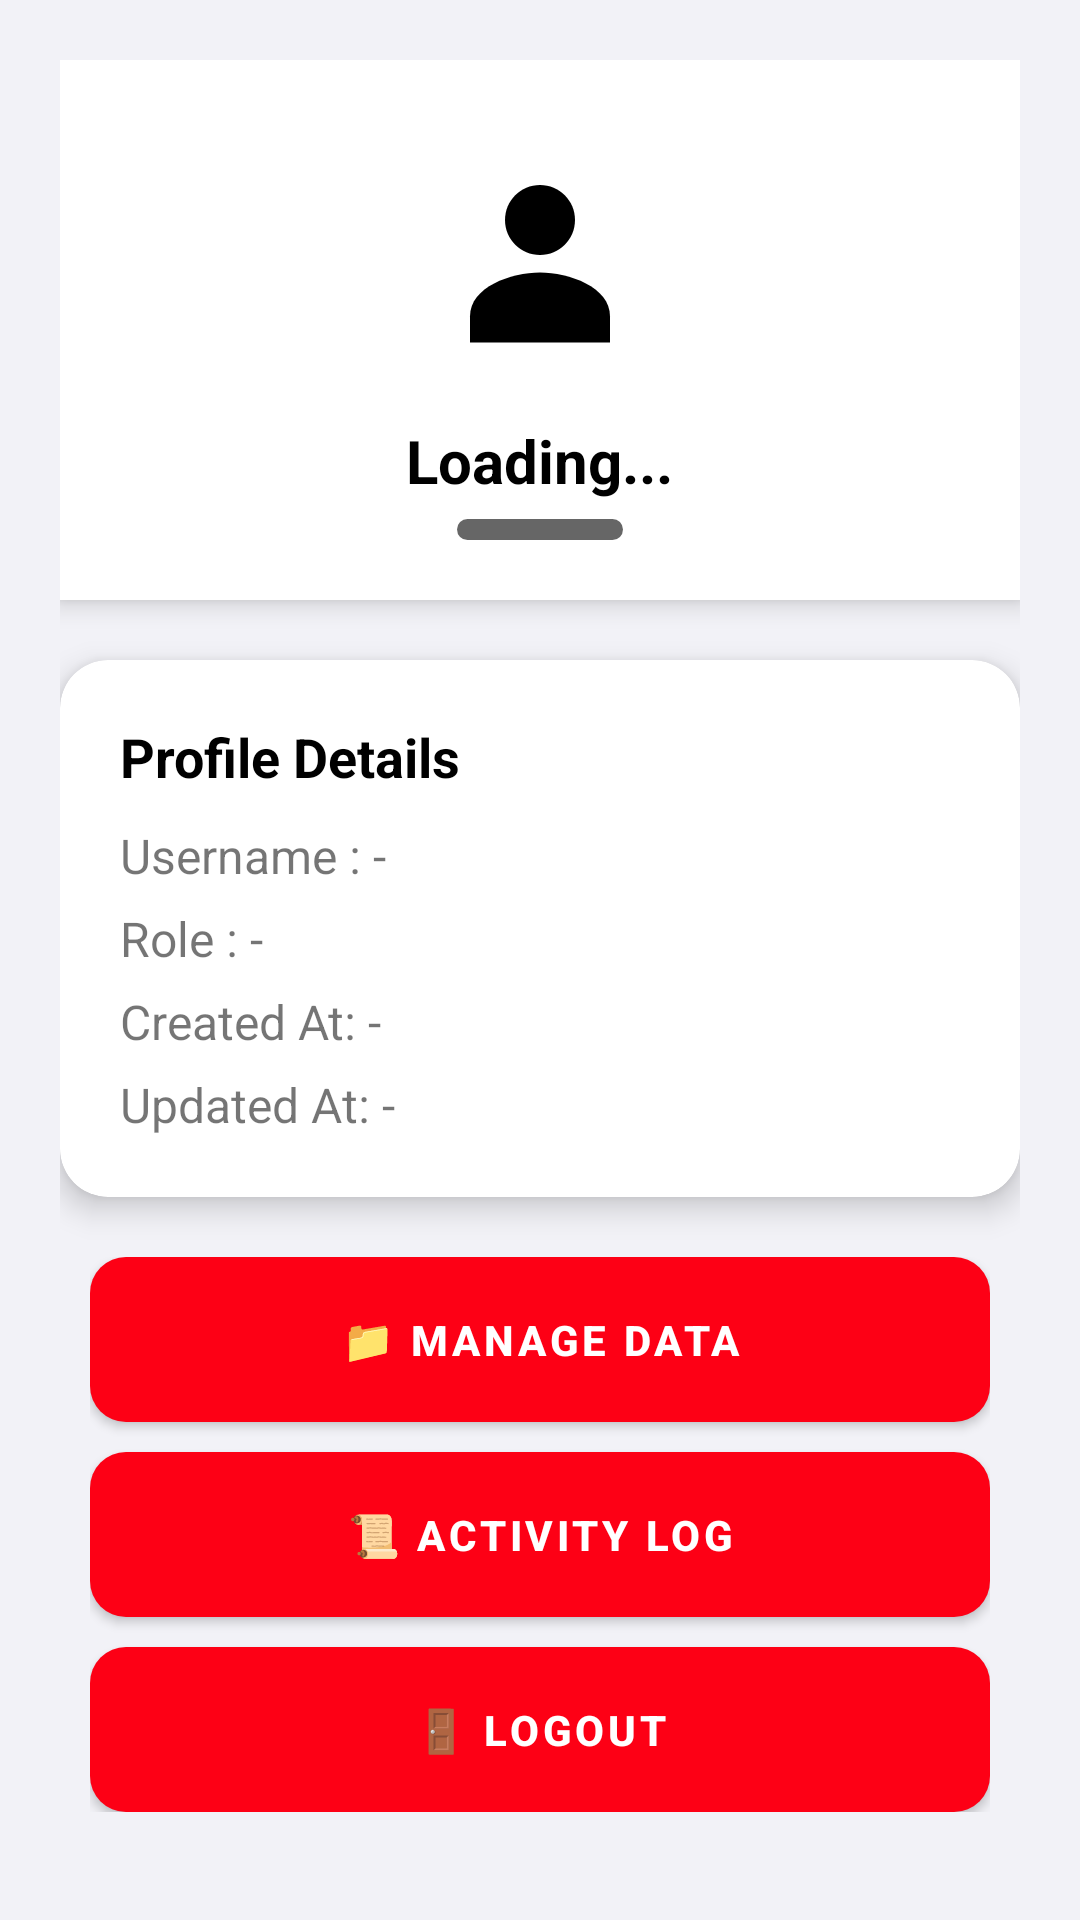

Point at icon controls on the screen. Image size 1080×1920, points as [x,y].
person: [540,264]
